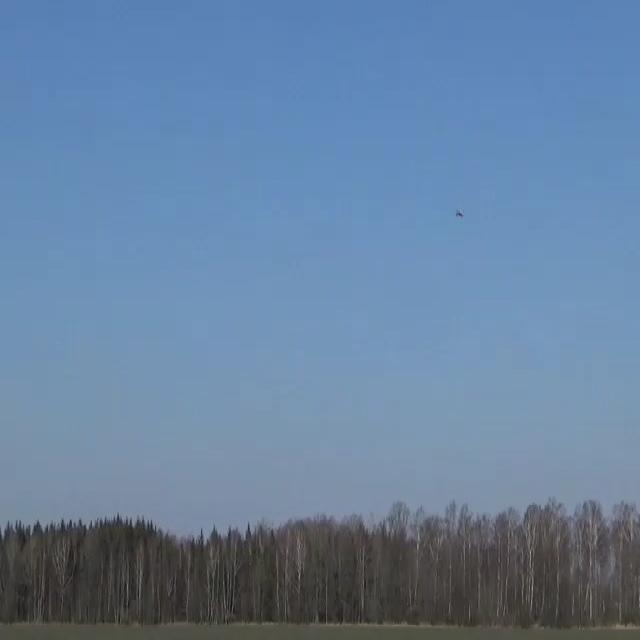drone: (455, 208, 463, 218)
